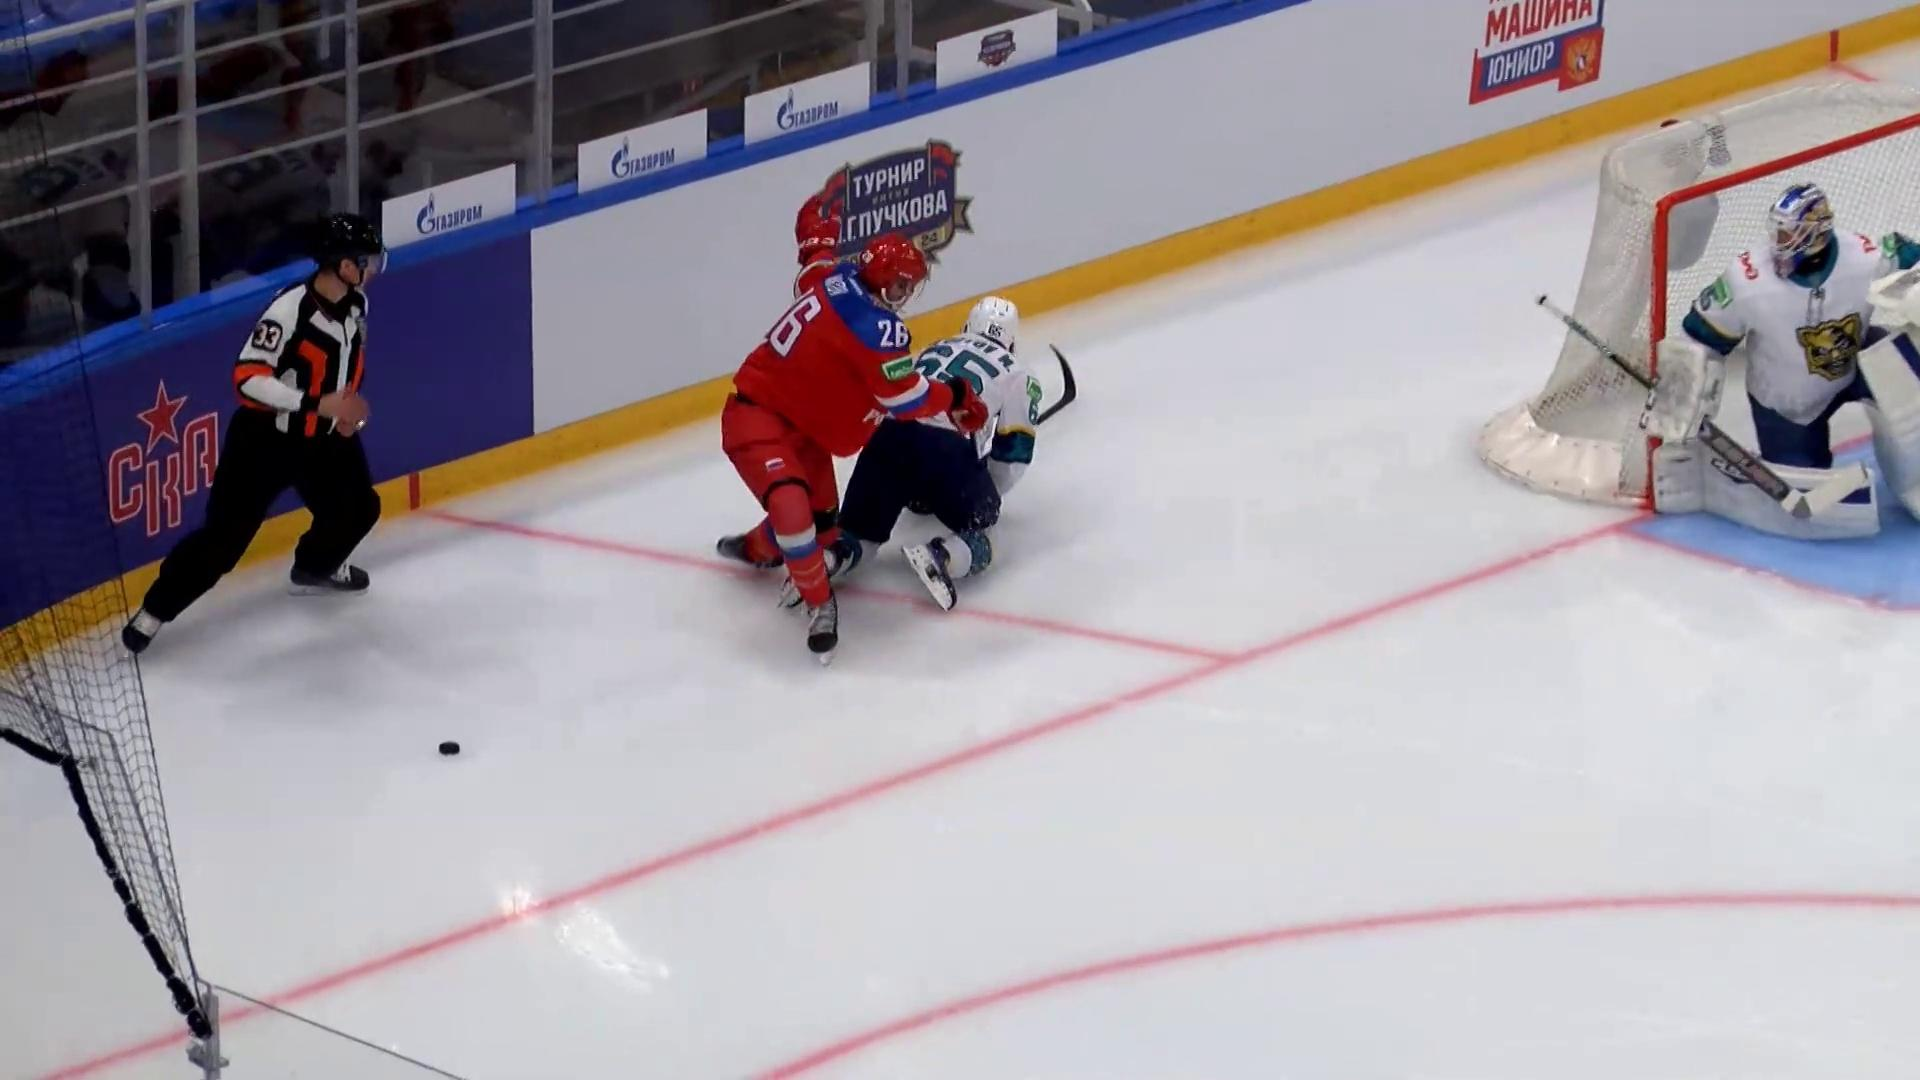ball: (438, 741, 460, 756)
